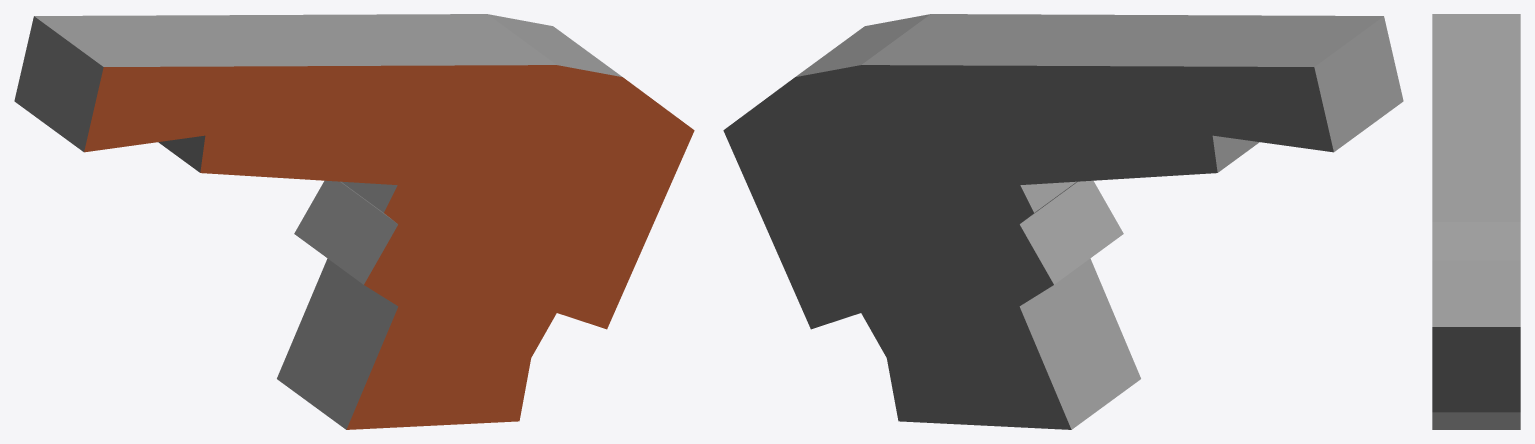
File: construction_7097_assumed_A_Casa_h6m.obj
3 renders of one model, left to right at view 1: azimuth 30°, elevation 25°; view 2: azimuth 150°, elevation 25°; view 3: azimuth 270°, elevation 25°, orthographic. The views are drawn at different scales.
Visible parts, largest first — view 1: construction_7097_assumed_A_Casa; view 2: construction_7097_assumed_A_Casa; view 3: construction_7097_assumed_A_Casa.
Part boxes in pixels (x1=…): construction_7097_assumed_A_Casa: x1=14, y1=14, x2=694, y2=429; construction_7097_assumed_A_Casa: x1=723, y1=14, x2=1403, y2=429; construction_7097_assumed_A_Casa: x1=1432, y1=14, x2=1520, y2=429.
Size of the model in its own units: 30.34 by 21.64 by 6.
